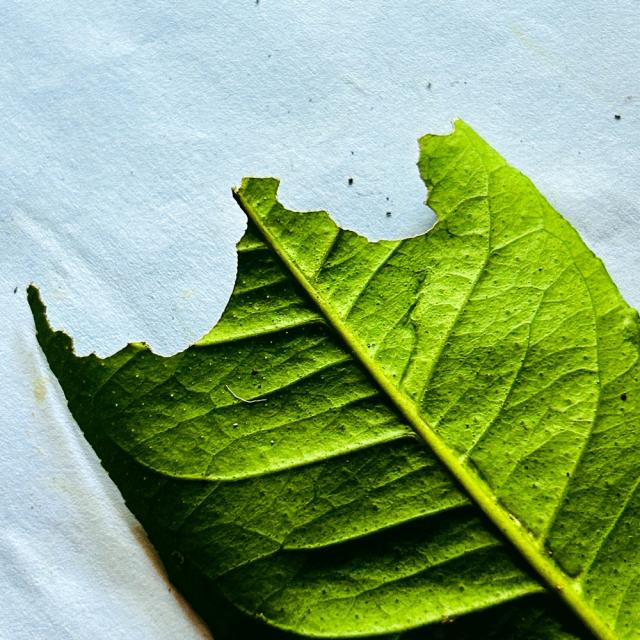Deficiency Leaf: (18, 165, 245, 356), (230, 85, 454, 240)
Lemon: (38, 128, 638, 639)
